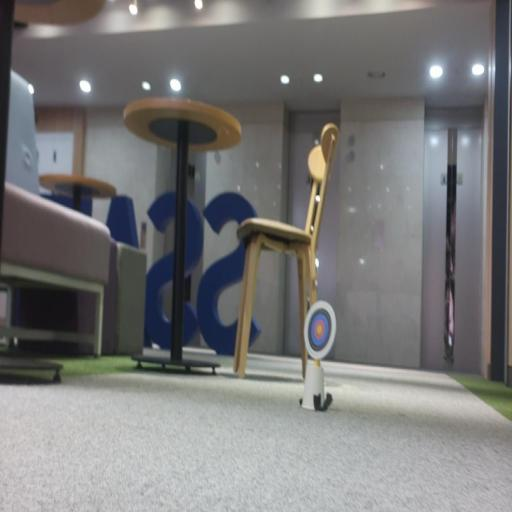target: (304, 300, 336, 361)
